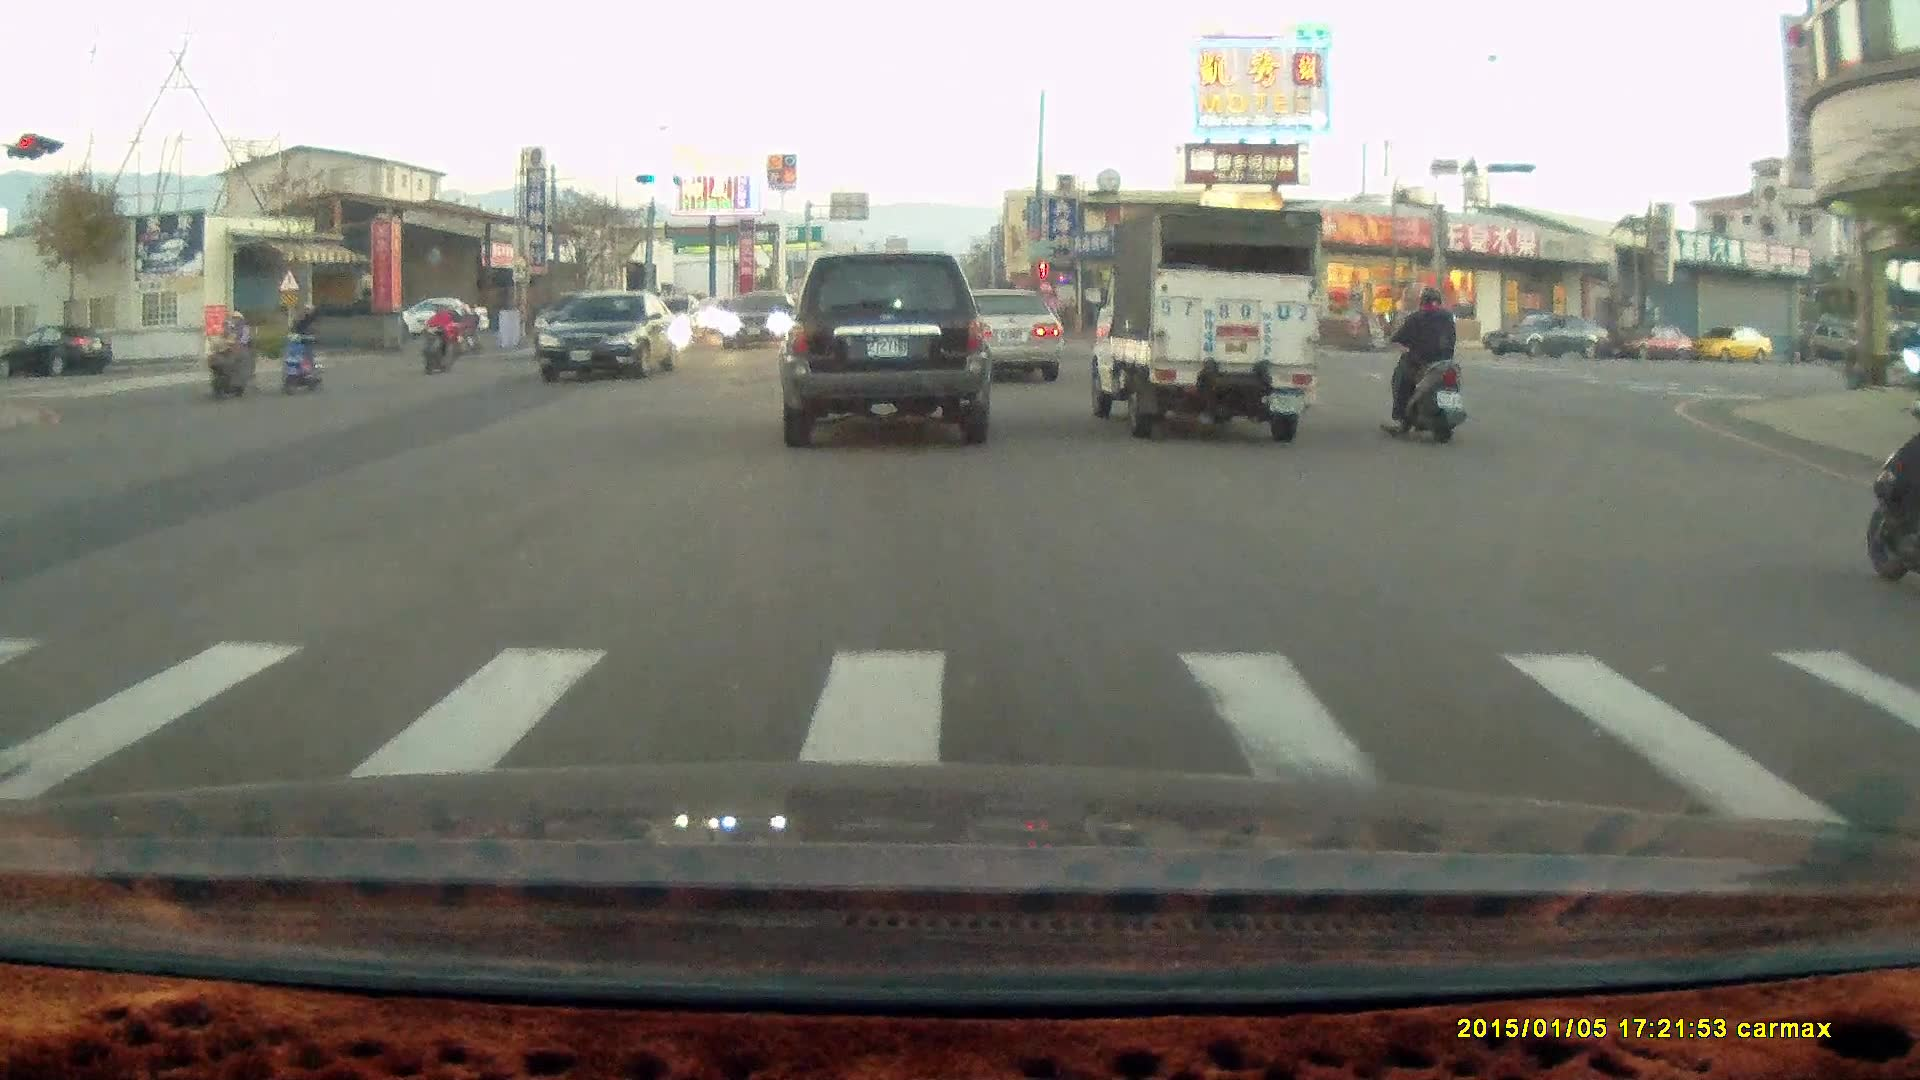rider: (1381, 285, 1465, 444), (1862, 375, 1920, 590), (200, 309, 260, 406), (275, 302, 325, 396), (420, 298, 459, 375)
vehicle: (1081, 206, 1324, 446), (776, 249, 992, 450), (539, 293, 687, 385), (944, 288, 1065, 386), (953, 288, 1067, 385), (1481, 309, 1614, 362), (720, 294, 801, 353), (403, 300, 488, 345), (1690, 326, 1776, 365), (1615, 326, 1695, 362)
